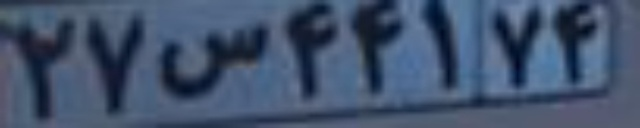1: (418, 0, 456, 88)
2: (12, 17, 74, 119)
4: (286, 4, 338, 99), (351, 1, 402, 94), (553, 3, 604, 81)
7: (83, 9, 143, 114), (490, 5, 544, 87)
sin: (154, 22, 269, 97)
